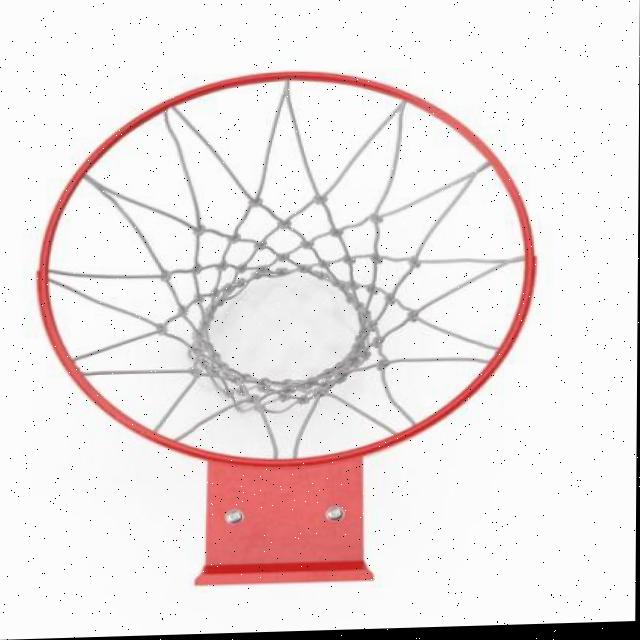hoop: (46, 64, 542, 582)
